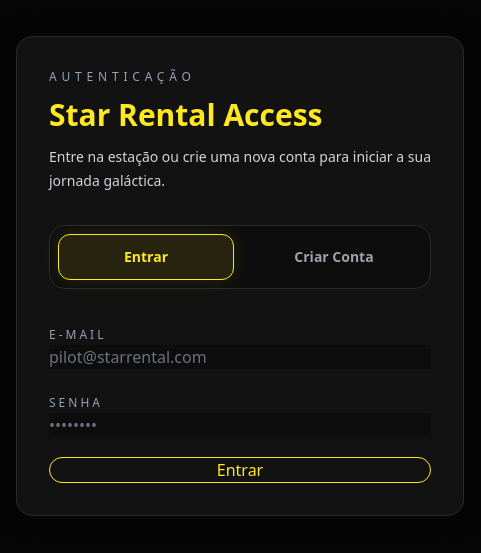
Test case: Login › Validation › should show error when email is empty on submit
Click the submit button.
click(240, 470)  # box [49,457,431,483]
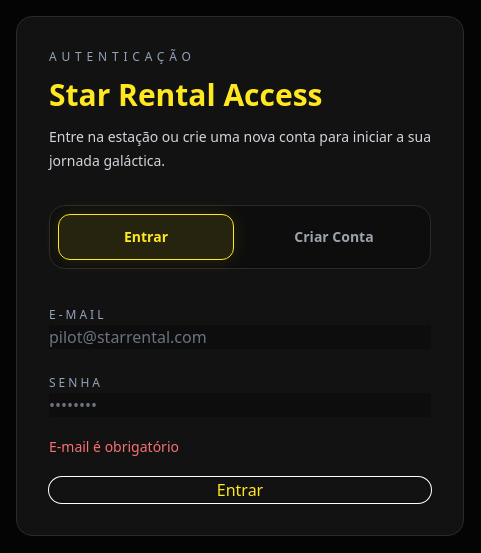
Now the text "E-mail é obrigatório" is shown, box [49,437,179,456]
